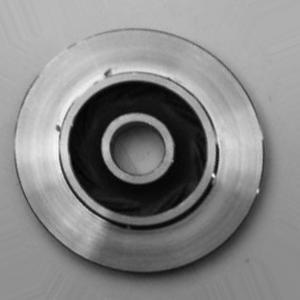crack: (51, 118, 66, 140), (100, 64, 119, 79)
scratch: (204, 166, 226, 195)
unpolished_casting: (13, 26, 266, 275)
